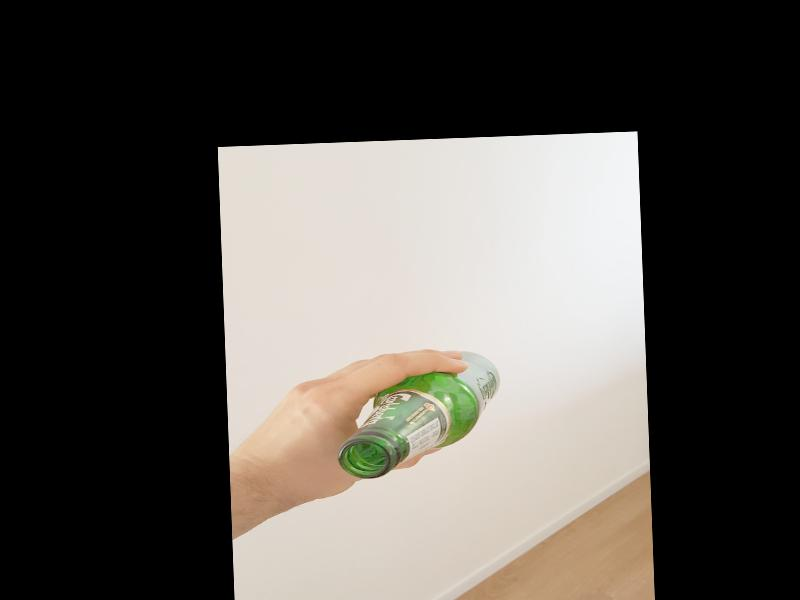Beer: (333, 351, 503, 482)
